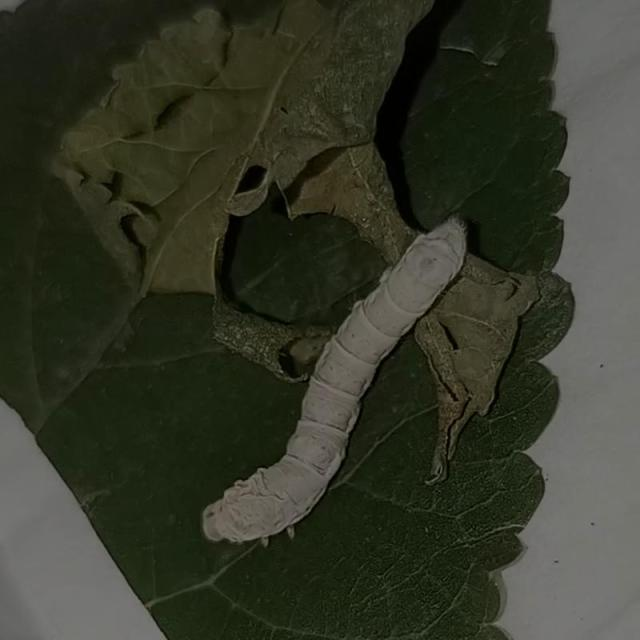Healthy: (173, 191, 483, 573)
